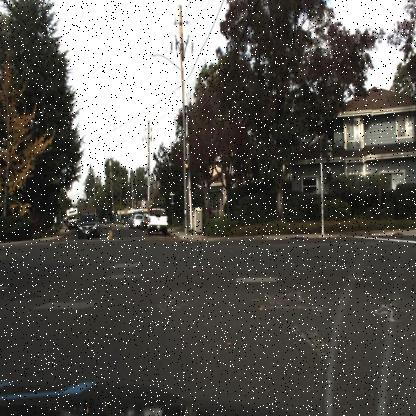car: (72, 209, 101, 239), (147, 204, 172, 238), (146, 203, 170, 232), (77, 210, 100, 235)
trafficLight-Red: (183, 154, 191, 178), (184, 156, 190, 183)
truck: (64, 205, 81, 231)
